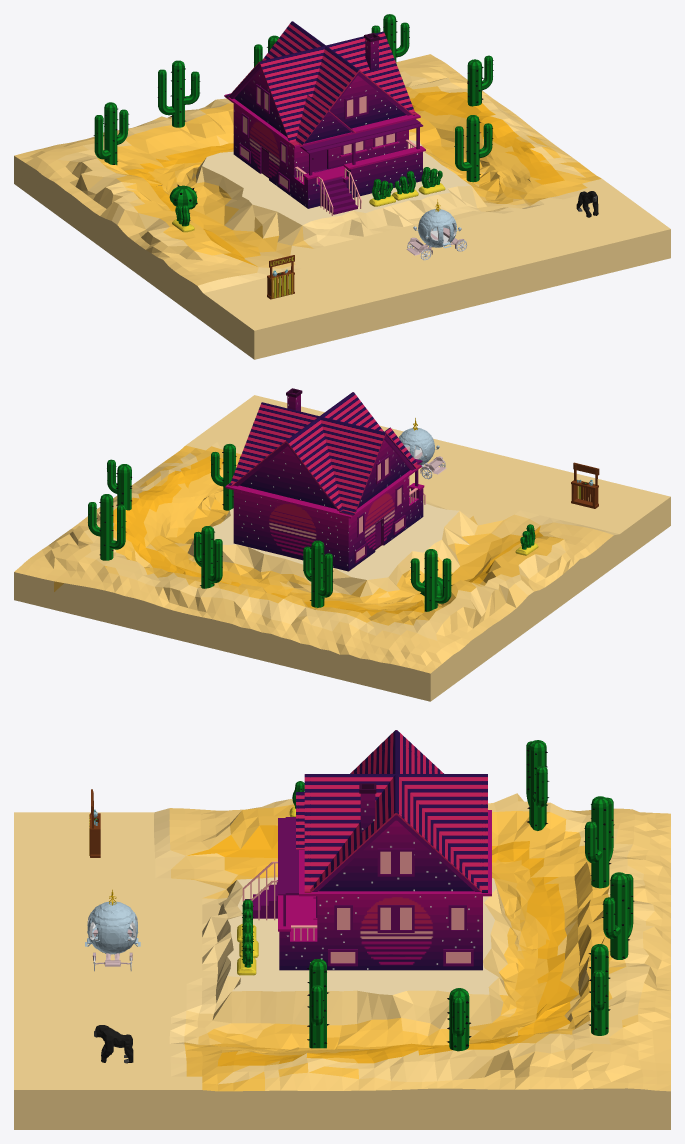
3 views of the same model, one above another, from view 1: azimuth 30°, elevation 25°; view 2: azimuth 150°, elevation 25°; view 3: azimuth 270°, elevation 25° (orthographic). The views are drawn at different scales.
Parts seen in each view (by area): view 1: Cube.001, Cube.156, VEHICLES_FANTASY_CARRIAGE, Cylinder.037, Cylinder.044, Cylinder.045, Cylinder.038, OBJRANDOM_LEMONADE_STAND, Cylinder.042, Cylinder.039, Cylinder.041, Sphere.023 (+1 smaller); view 2: Cube.001, Cube.156, Cylinder.042, Cylinder.045, Cylinder.044, Cylinder.043, VEHICLES_FANTASY_CARRIAGE, Cylinder.037, OBJRANDOM_LEMONADE_STAND, Cylinder.038; view 3: Cube.001, Cube.156, VEHICLES_FANTASY_CARRIAGE, Cylinder.043, Cylinder.044, Cylinder.045, Cylinder.042, Cylinder.037, Cylinder.038, ANIMAL_GORILA, Cylinder.041, OBJRANDOM_LEMONADE_STAND.
Boxes of the visible parts, <box> form: Cube.001: <box>14,54,670,359</box>; Cube.156: <box>224,21,425,215</box>; VEHICLES_FANTASY_CARRIAGE: <box>406,199,467,260</box>; Cylinder.037: <box>454,115,493,182</box>; Cylinder.044: <box>157,60,200,127</box>; Cylinder.045: <box>93,102,129,164</box>; Cylinder.038: <box>467,55,493,106</box>; OBJRANDOM_LEMONADE_STAND: <box>267,255,294,299</box>; Cylinder.042: <box>371,14,409,62</box>; Cylinder.039: <box>369,179,395,206</box>; Cylinder.041: <box>418,167,445,194</box>; Sphere.023: <box>169,184,197,209</box>; Cube.001: <box>14,395,670,701</box>; Cube.156: <box>225,388,425,571</box>; Cylinder.042: <box>88,494,126,560</box>; Cylinder.045: <box>410,549,452,611</box>; Cylinder.044: <box>303,540,333,607</box>; Cylinder.043: <box>193,526,222,588</box>; VEHICLES_FANTASY_CARRIAGE: <box>398,418,446,479</box>; Cylinder.037: <box>211,444,240,510</box>; OBJRANDOM_LEMONADE_STAND: <box>571,462,599,508</box>; Cylinder.038: <box>107,459,131,510</box>; Cube.001: <box>14,793,670,1129</box>; Cube.156: <box>242,730,491,970</box>; VEHICLES_FANTASY_CARRIAGE: <box>85,889,140,971</box>; Cylinder.043: <box>602,872,634,959</box>; Cylinder.044: <box>584,796,614,888</box>; Cylinder.045: <box>526,740,549,830</box>; Cylinder.042: <box>588,944,610,1035</box>; Cylinder.037: <box>307,959,329,1048</box>; Cylinder.038: <box>447,988,471,1051</box>; ANIMAL_GORILA: <box>94,1025,133,1063</box>; Cylinder.041: <box>237,932,256,975</box>; OBJRANDOM_LEMONADE_STAND: <box>89,789,100,857</box>.
Bounding box in the file's own units: 4002 × 1627 × 4001.
34 materials, 4 textured.
